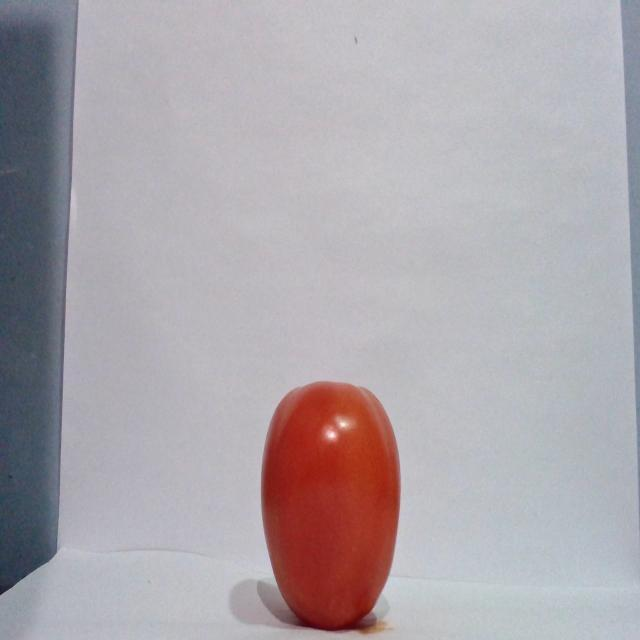Red: (258, 379, 402, 630)
